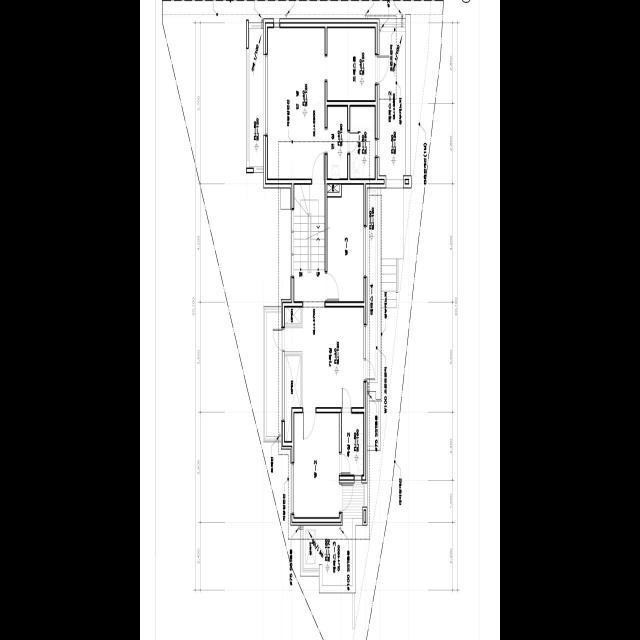background: (140, 0, 500, 640)
space_bedroom: (267, 28, 325, 179), (284, 306, 364, 407), (294, 413, 339, 517), (327, 184, 364, 301)
space_dressroom: (327, 28, 375, 100)
space_other: (284, 355, 300, 441), (328, 106, 347, 178), (285, 307, 301, 323), (327, 184, 339, 191)
space_staircase: (294, 183, 325, 307)
space_toilet: (350, 106, 375, 178), (341, 412, 363, 474)
